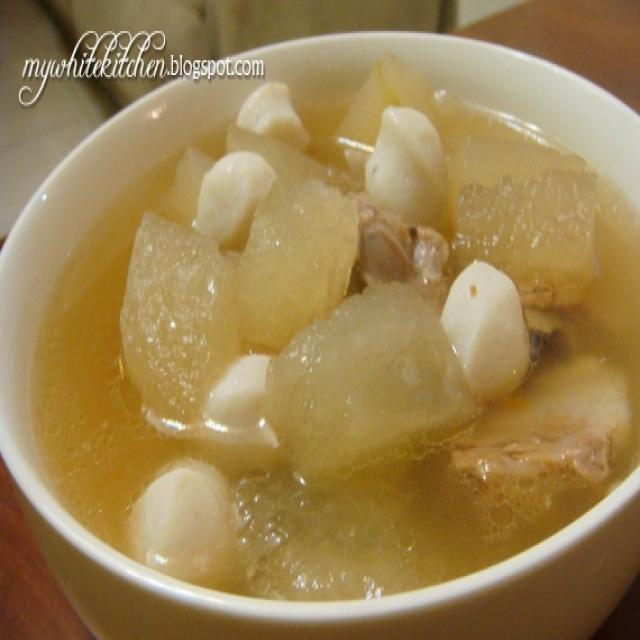汤锅炖物: (26, 33, 623, 605)
